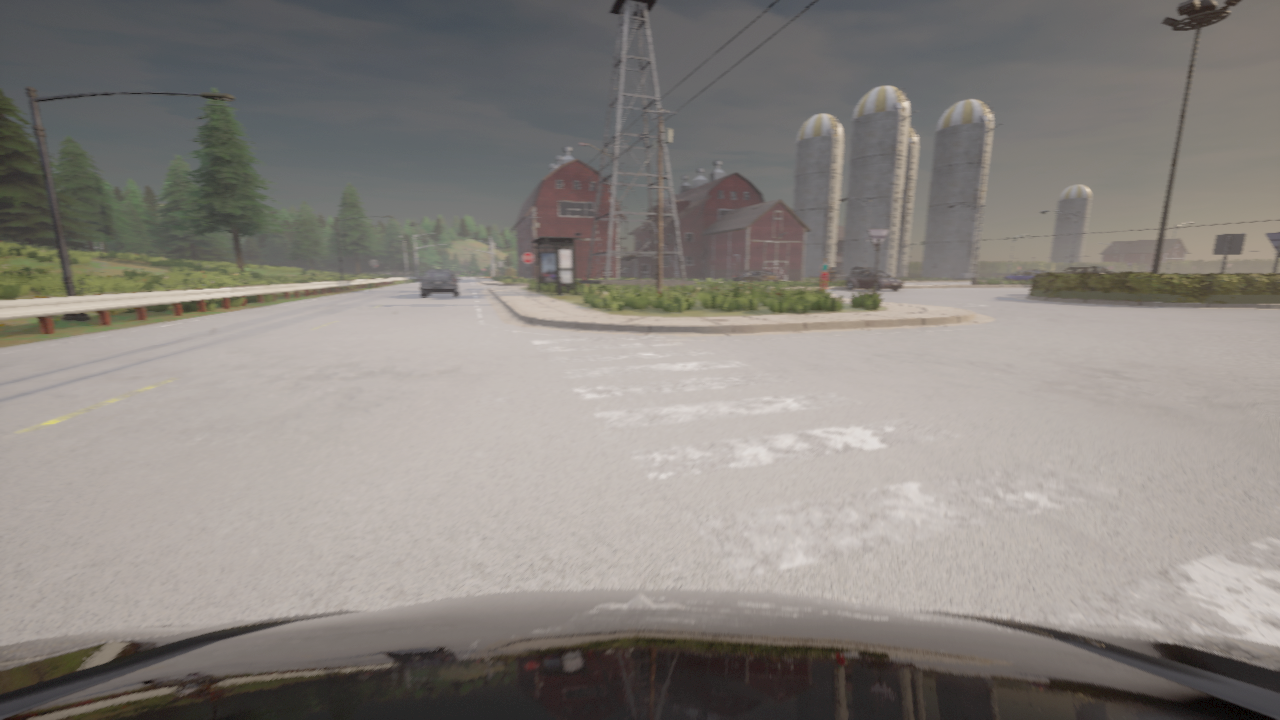cyclist: (0, 588, 1279, 719), (845, 270, 902, 290), (420, 270, 460, 296), (732, 270, 778, 281), (1002, 270, 1046, 280), (741, 270, 776, 281), (1061, 266, 1111, 273), (827, 267, 849, 281), (850, 267, 873, 277)
pedestrian: (818, 257, 829, 293)
